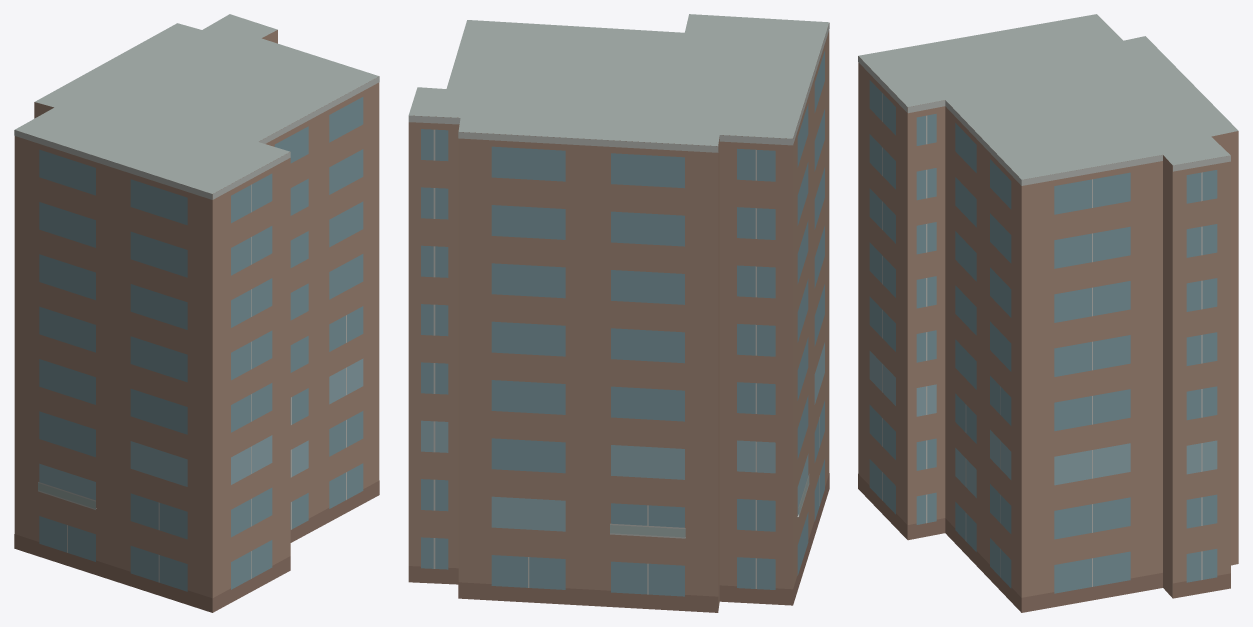
File: survey-upis-32864555.glb
The picture shows the model from 3 angles, left to right: view 1: azimuth 30°, elevation 25°; view 2: azimuth 150°, elevation 25°; view 3: azimuth 270°, elevation 25°; orthographic projection. The views are drawn at different scales.
Parts seen in each view (by area): view 1: survey-upis-32864555.tmp; view 2: survey-upis-32864555.tmp; view 3: survey-upis-32864555.tmp.
Boxes of the visible parts, bbox=[...] form: survey-upis-32864555.tmp: bbox=[14, 14, 379, 612]; survey-upis-32864555.tmp: bbox=[408, 14, 829, 612]; survey-upis-32864555.tmp: bbox=[858, 14, 1238, 612].
Size of the model in its own units: 14.05 by 17.1 by 13.63.
